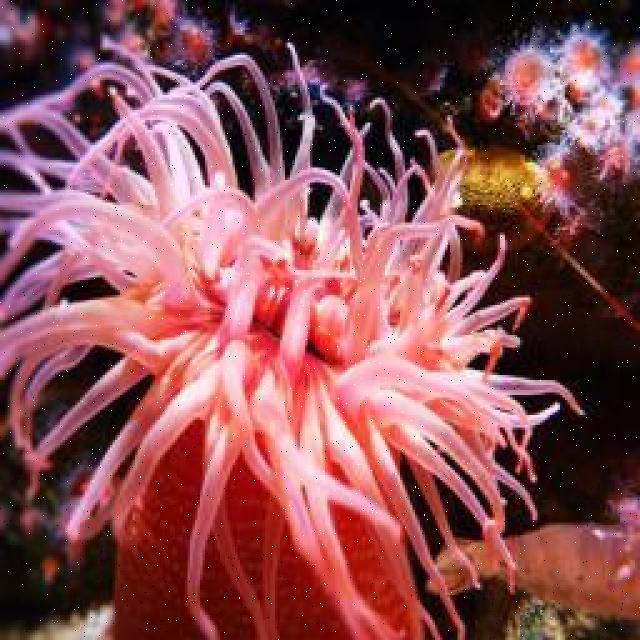reefs: (0, 32, 587, 638)
